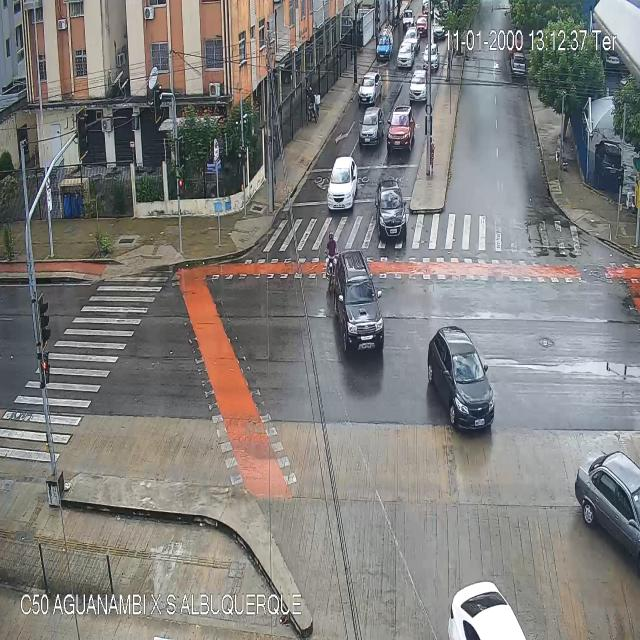Car: (574, 450, 640, 573), (429, 330, 496, 436), (333, 248, 386, 360), (449, 580, 523, 640), (375, 180, 409, 244), (326, 156, 358, 214), (389, 106, 417, 154), (358, 105, 384, 148), (358, 72, 384, 104), (408, 69, 428, 110), (376, 26, 395, 60), (422, 44, 440, 73), (397, 41, 415, 68), (404, 26, 420, 52), (432, 20, 447, 40), (513, 53, 525, 75), (415, 15, 427, 35), (402, 10, 414, 26)
Motorcycle: (325, 230, 337, 296), (306, 84, 320, 122)
